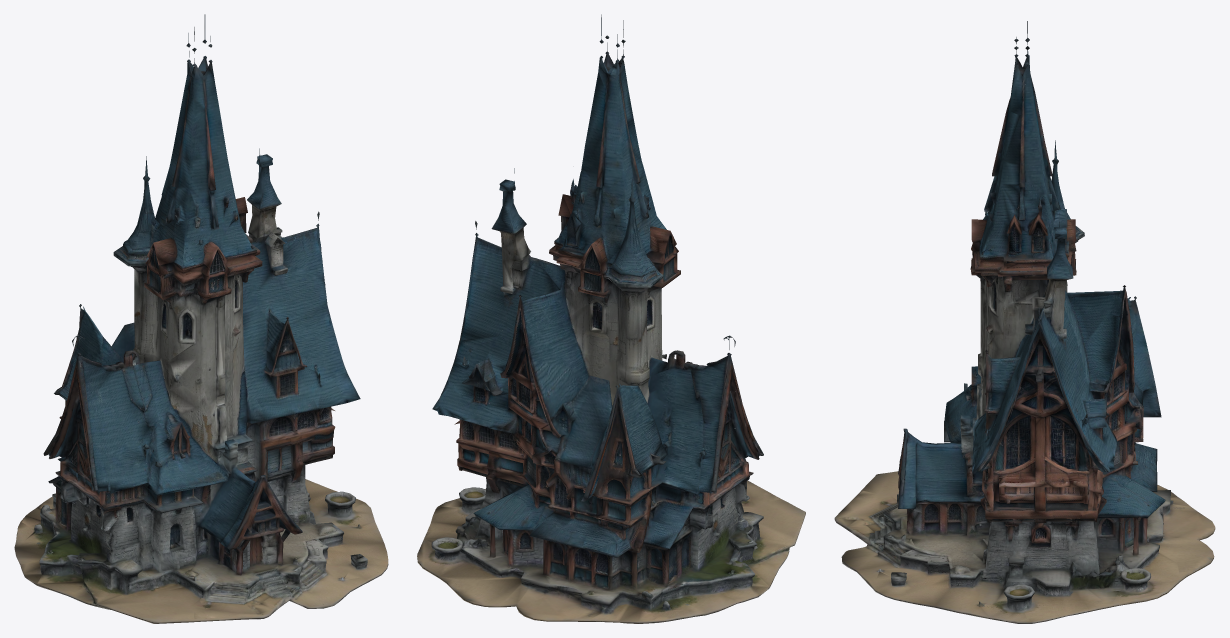
Rendered from fantasy-castle.glb.
3 views of the same model, side by side, from view 1: azimuth 30°, elevation 25°; view 2: azimuth 150°, elevation 25°; view 3: azimuth 270°, elevation 25° (orthographic).
Parts seen in each view (by area): view 1: tripo_node_9ddd5d7a-51b9-437f-9470-630d2e17f49e; view 2: tripo_node_9ddd5d7a-51b9-437f-9470-630d2e17f49e; view 3: tripo_node_9ddd5d7a-51b9-437f-9470-630d2e17f49e.
Boxes of the visible parts, box(x1,y1,x2,y2) form: tripo_node_9ddd5d7a-51b9-437f-9470-630d2e17f49e: box(14, 14, 388, 623); tripo_node_9ddd5d7a-51b9-437f-9470-630d2e17f49e: box(417, 14, 805, 623); tripo_node_9ddd5d7a-51b9-437f-9470-630d2e17f49e: box(834, 21, 1215, 623).
Bounding box in the file's own units: 0.6514 × 0.9995 × 0.6568.
1 material, 1 textured.
